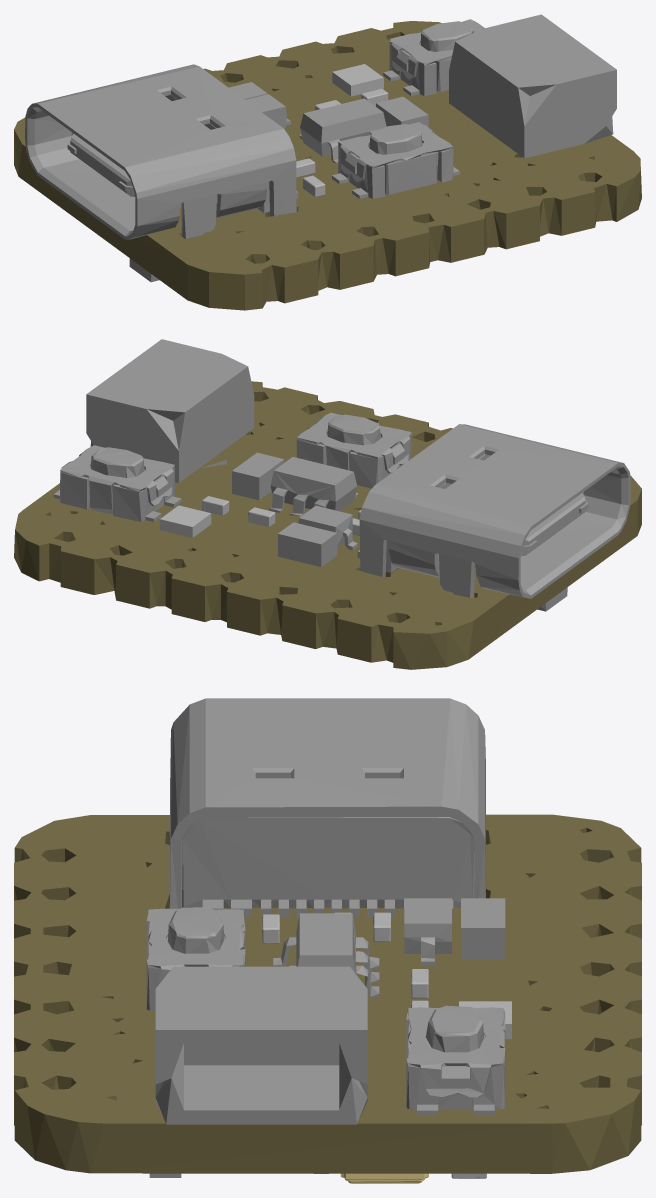
Rendered from adafruit-4900-qt-py-rp2040.glb.
The picture shows the model from 3 angles, top to bottom: view 1: azimuth 30°, elevation 25°; view 2: azimuth 150°, elevation 25°; view 3: azimuth 270°, elevation 25°; orthographic projection. The views are drawn at different scales.
Parts seen in each view (by area): view 1: colour 2, colour 1, colour 3; view 2: colour 2, colour 1, colour 3; view 3: colour 1, colour 2, colour 3, colour 6.
Boxes of the visible parts, x1,y1,x2,y2 form: colour 2: (25,14,616,282); colour 1: (14,21,641,310); colour 3: (296,64,388,197); colour 2: (53,339,630,611); colour 1: (14,381,641,669); colour 3: (160,496,361,537); colour 1: (14,814,641,1173); colour 2: (146,698,505,1177); colour 3: (262,912,511,1178); colour 6: (340,1173,428,1183).
Bounding box in the file's own units: 0.0218 × 0.00587 × 0.0178.
